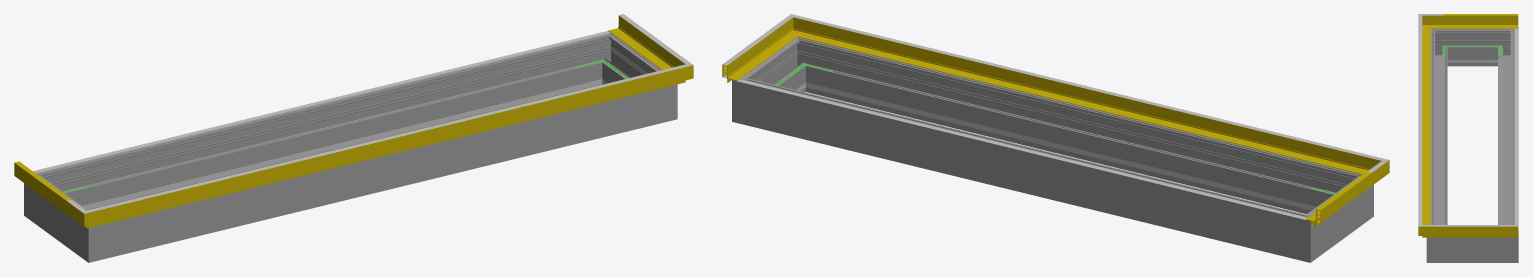
The picture shows the model from 3 angles, left to right: view 1: azimuth 30°, elevation 25°; view 2: azimuth 150°, elevation 25°; view 3: azimuth 270°, elevation 25°; orthographic projection. The views are drawn at different scales.
Parts seen in each view (by area): view 1: 3DGeom-276, 3DGeom-298, 3DGeom-56, 3DGeom-244, 3DGeom-220, 3DGeom-66, 3DGeom-270, 3DGeom-284, 3DGeom-58, 3DGeom-290, 3DGeom-268, 3DGeom-297 (+4 smaller); view 2: 3DGeom-298, 3DGeom-276, 3DGeom-56, 3DGeom-239, 3DGeom-278, 3DGeom-220, 3DGeom-66, 3DGeom-284, 3DGeom-58, 3DGeom-290, 3DGeom-297, 3DGeom-268 (+4 smaller); view 3: 3DGeom-298, 3DGeom-276, 3DGeom-56, 3DGeom-268, 3DGeom-297, 3DGeom-50, 3DGeom-220, 3DGeom-66, 3DGeom-58, 3DGeom-284, 3DGeom-290, 3DGeom-278 (+9 smaller).
Part boxes in pixels (x1,y1,x2,y2): 3DGeom-276: (57,39,597,209); 3DGeom-298: (119,92,647,255); 3DGeom-56: (112,72,663,222); 3DGeom-244: (93,86,572,207); 3DGeom-220: (33,31,610,173); 3DGeom-66: (112,70,662,206); 3DGeom-270: (71,205,118,262); 3DGeom-284: (585,33,625,85); 3DGeom-58: (608,15,673,68); 3DGeom-290: (647,65,677,126); 3DGeom-268: (41,183,80,249); 3DGeom-297: (605,43,654,83); 3DGeom-298: (811,43,1340,214); 3DGeom-276: (762,83,1285,255); 3DGeom-56: (812,23,1356,171); 3DGeom-239: (834,89,1305,208); 3DGeom-278: (1280,206,1327,262); 3DGeom-220: (737,79,1307,219); 3DGeom-66: (818,21,1358,154); 3DGeom-284: (732,68,767,128); 3DGeom-58: (722,28,788,82); 3DGeom-290: (783,37,822,93); 3DGeom-297: (754,47,802,91); 3DGeom-268: (1318,185,1356,249); 3DGeom-298: (1430,37,1447,224); 3DGeom-276: (1498,37,1514,224); 3DGeom-56: (1422,33,1430,224); 3DGeom-268: (1451,28,1493,66); 3DGeom-297: (1451,237,1493,262); 3DGeom-50: (1443,15,1518,28); 3DGeom-220: (1514,28,1518,230); 3DGeom-66: (1418,24,1422,215); 3DGeom-58: (1443,226,1518,237); 3DGeom-284: (1493,222,1518,262); 3DGeom-290: (1426,222,1451,262); 3DGeom-278: (1493,27,1518,66).
Size of the model in its own units: 3.05 by 0.2669 by 0.6096.
